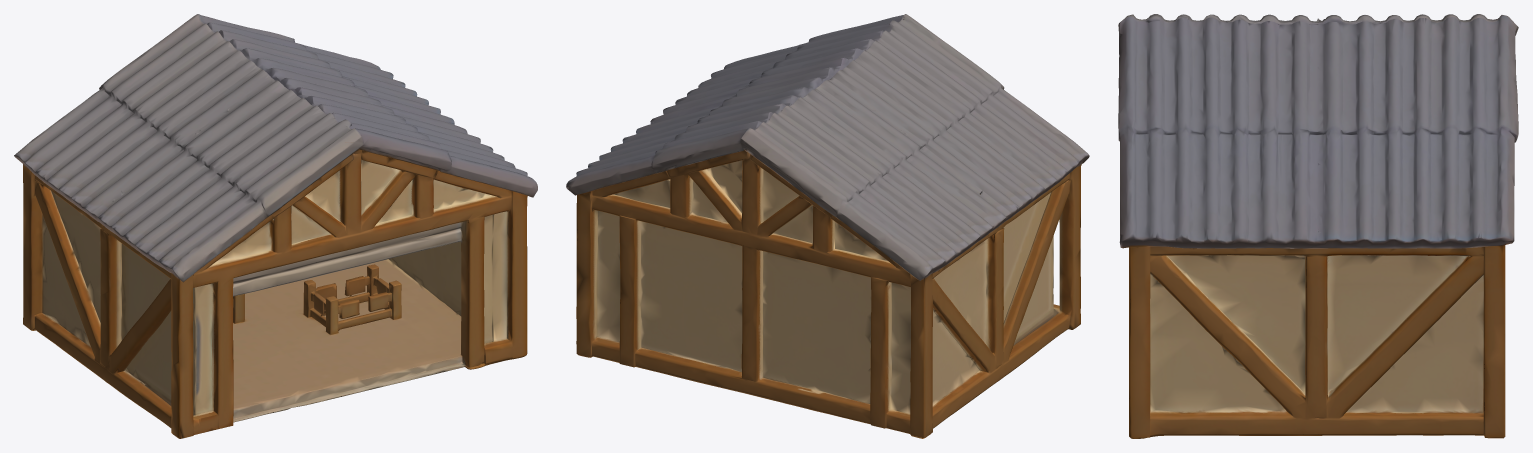
The model's file is wooden_workshop_3d_model.fbx.
The picture shows the model from 3 angles, left to right: view 1: azimuth 30°, elevation 25°; view 2: azimuth 150°, elevation 25°; view 3: azimuth 270°, elevation 25°; orthographic projection. The views are drawn at different scales.
Visible parts, largest first — view 1: tripo_node_ff63b3e5; view 2: tripo_node_ff63b3e5; view 3: tripo_node_ff63b3e5.
Boxes of the visible parts, x1,y1,x2,y2 form: tripo_node_ff63b3e5: (14, 14, 537, 438); tripo_node_ff63b3e5: (566, 14, 1089, 438); tripo_node_ff63b3e5: (1118, 14, 1518, 438).
Bounding box in the file's own units: 0.9805 × 0.6905 × 0.7707.
